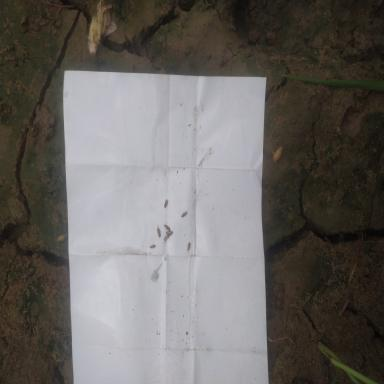pbw: (163, 234, 170, 244), (157, 224, 161, 237), (164, 224, 170, 231), (182, 211, 188, 217), (164, 199, 168, 208), (150, 244, 156, 249), (187, 242, 190, 250), (166, 231, 172, 235)
